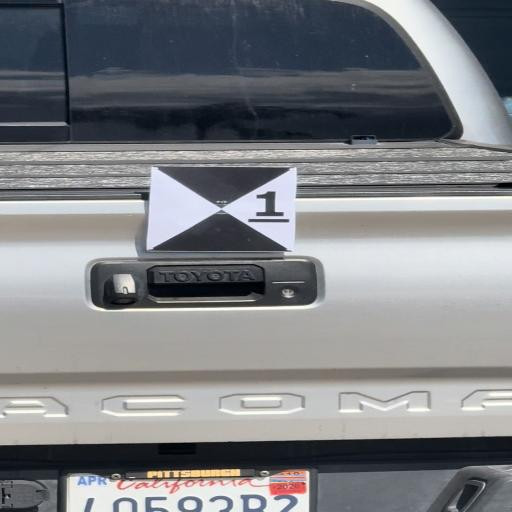target1: (154, 167, 292, 251)
